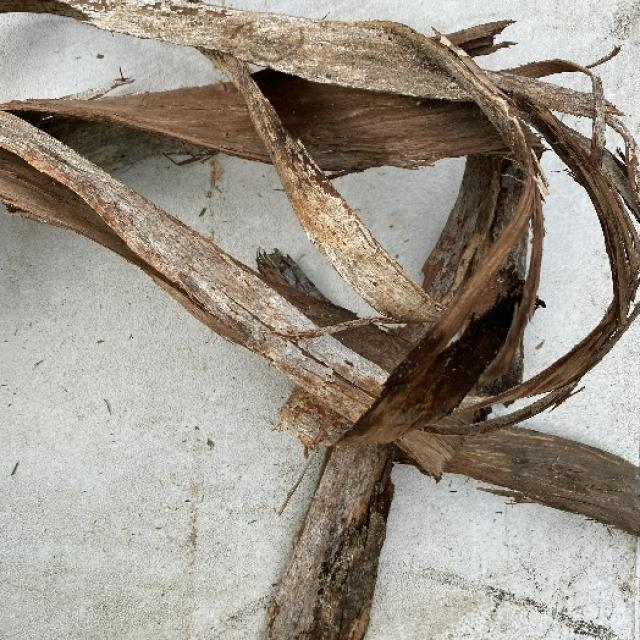organik: (0, 4, 640, 604)
